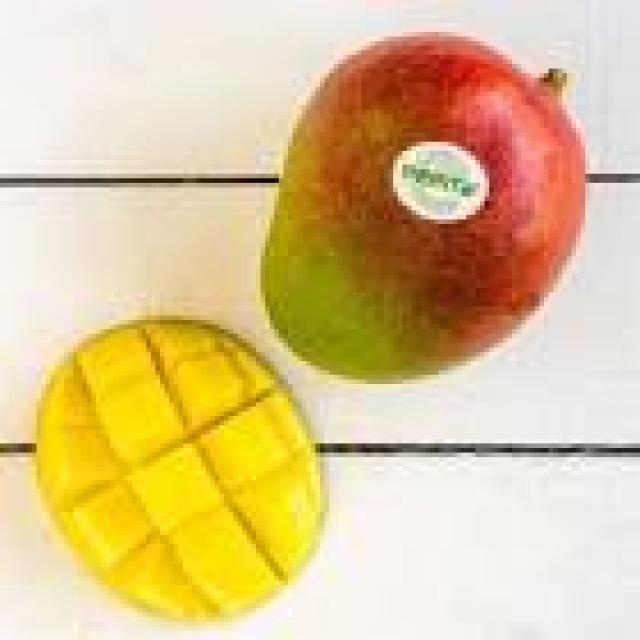mango: (262, 32, 584, 378), (40, 321, 322, 618)
